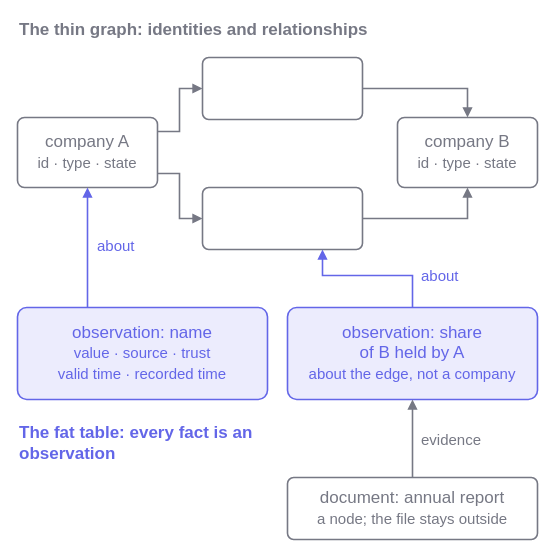
Some shapes in this 556 by 557 pixel diagram are drawn without their labels. The shapes that lost their labels are listed below. From the top down, each one's box as (x1, y1, x2, y2) in pixels, then its label:
(201, 56, 363, 120): edge: owns source: register
(201, 186, 363, 250): edge: owns source: report
